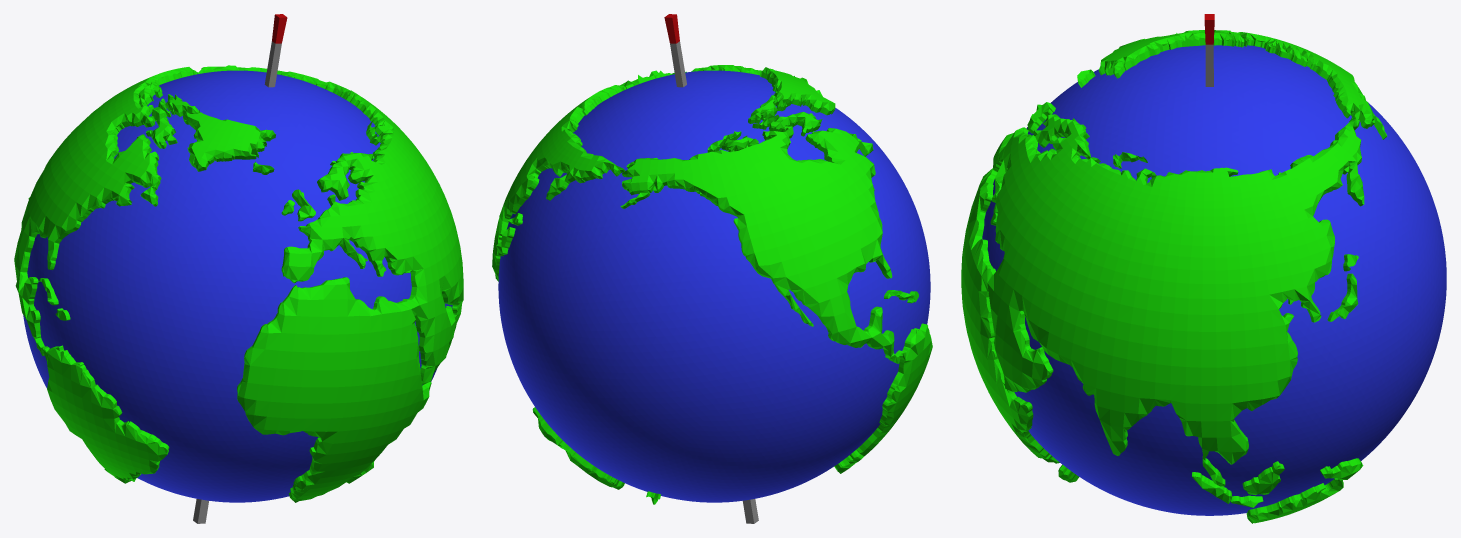
Rendered from tilted_globe.gltf.
The picture shows the model from 3 angles, left to right: view 1: azimuth 30°, elevation 25°; view 2: azimuth 150°, elevation 25°; view 3: azimuth 270°, elevation 25°; orthographic projection. The views are drawn at different scales.
Visible parts, largest first — view 1: Icosphere, Map, Axis; view 2: Icosphere, Map, Axis; view 3: Map, Icosphere.
Part boxes in pixels (x1=…): Icosphere: x1=23, y1=70, x2=452, y2=502; Map: x1=14, y1=65, x2=463, y2=502; Axis: x1=193, y1=41, x2=281, y2=523; Icosphere: x1=498, y1=70, x2=930, y2=502; Map: x1=492, y1=65, x2=932, y2=504; Axis: x1=670, y1=41, x2=758, y2=523; Map: x1=961, y1=30, x2=1387, y2=523; Icosphere: x1=982, y1=45, x2=1446, y2=515.
Size of the model in its own units: 8.38 by 9.96 by 8.19.
